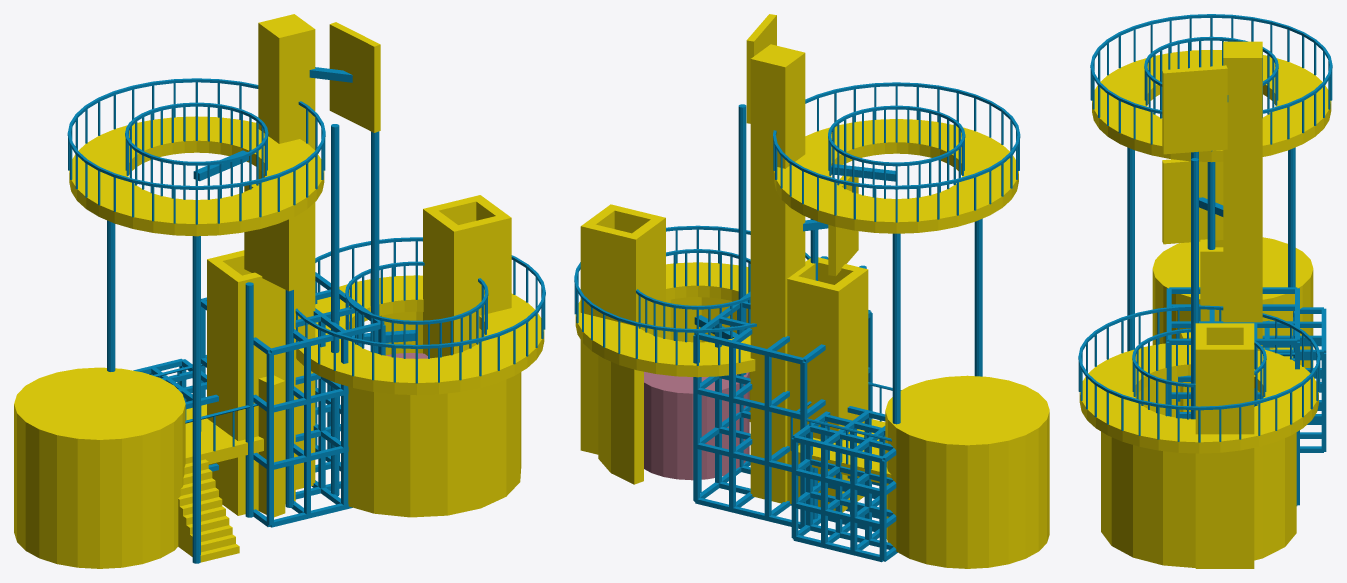
File: folie_tag_065.glb
The picture shows the model from 3 angles, left to right: view 1: azimuth 30°, elevation 25°; view 2: azimuth 150°, elevation 25°; view 3: azimuth 270°, elevation 25°; orthographic projection. The views are drawn at different scales.
Parts seen in each view (by area): view 1: folie_tag_065_line, folie_tag_065_02_drum, folie_tag_065_09_curve, folie_tag_065_01_ring, folie_tag_065_03_ring, folie_tag_065_08_tower, folie_tag_065_05_tower, folie_tag_065_00_cage, folie_tag_065_core, folie_tag_065_11_panel, folie_tag_065_stairs, folie_tag_065_12_panel (+3 smaller); view 2: folie_tag_065_02_drum, folie_tag_065_line, folie_tag_065_core, folie_tag_065_01_ring, folie_tag_065_08_tower, folie_tag_065_00_cage, folie_tag_065_07_cage, folie_tag_065_05_tower, folie_tag_065_03_ring, folie_tag_065_06_drum, folie_tag_065_09_curve, folie_tag_065_12_panel (+2 smaller); view 3: folie_tag_065_line, folie_tag_065_09_curve, folie_tag_065_05_tower, folie_tag_065_03_ring, folie_tag_065_core, folie_tag_065_01_ring, folie_tag_065_02_drum, folie_tag_065_11_panel, folie_tag_065_12_panel, folie_tag_065_00_cage, folie_tag_065_07_cage, folie_tag_065_08_tower.
Part boxes in pixels (left/top/right/bottom): folie_tag_065_line: left=67, top=67, right=545, bottom=563; folie_tag_065_02_drum: left=14, top=367, right=185, bottom=568; folie_tag_065_09_curve: left=348, top=311, right=521, bottom=517; folie_tag_065_01_ring: left=69, top=116, right=324, bottom=236; folie_tag_065_03_ring: left=296, top=275, right=544, bottom=395; folie_tag_065_08_tower: left=207, top=250, right=295, bottom=515; folie_tag_065_05_tower: left=423, top=195, right=511, bottom=358; folie_tag_065_00_cage: left=201, top=272, right=385, bottom=527; folie_tag_065_core: left=258, top=14, right=315, bottom=489; folie_tag_065_11_panel: left=329, top=22, right=380, bottom=132; folie_tag_065_stairs: left=178, top=459, right=239, bottom=562; folie_tag_065_12_panel: left=244, top=184, right=295, bottom=291; folie_tag_065_02_drum: left=885, top=375, right=1049, bottom=568; folie_tag_065_line: left=574, top=82, right=1020, bottom=519; folie_tag_065_core: left=750, top=44, right=805, bottom=503; folie_tag_065_01_ring: left=774, top=119, right=1018, bottom=233; folie_tag_065_08_tower: left=787, top=257, right=868, bottom=512; folie_tag_065_00_cage: left=693, top=291, right=872, bottom=528; folie_tag_065_07_cage: left=791, top=406, right=897, bottom=562; folie_tag_065_05_tower: left=580, top=204, right=665, bottom=454; folie_tag_065_03_ring: left=575, top=262, right=755, bottom=377; folie_tag_065_06_drum: left=644, top=371, right=749, bottom=480; folie_tag_065_09_curve: left=598, top=297, right=750, bottom=484; folie_tag_065_12_panel: left=828, top=175, right=858, bottom=276; folie_tag_065_line: left=1078, top=14, right=1332, bottom=442; folie_tag_065_09_curve: left=1101, top=377, right=1296, bottom=567; folie_tag_065_05_tower: left=1195, top=323, right=1254, bottom=568; folie_tag_065_03_ring: left=1079, top=343, right=1318, bottom=453; folie_tag_065_core: left=1223, top=41, right=1262, bottom=399; folie_tag_065_01_ring: left=1092, top=50, right=1331, bottom=162; folie_tag_065_02_drum: left=1152, top=237, right=1313, bottom=367; folie_tag_065_11_panel: left=1162, top=65, right=1227, bottom=154; folie_tag_065_12_panel: left=1162, top=159, right=1223, bottom=244; folie_tag_065_00_cage: left=1166, top=287, right=1299, bottom=505; folie_tag_065_07_cage: left=1262, top=307, right=1326, bottom=452; folie_tag_065_08_tower: left=1200, top=239, right=1223, bottom=321.
Size of the model in its own units: 14.76 by 13.33 by 7.14.
